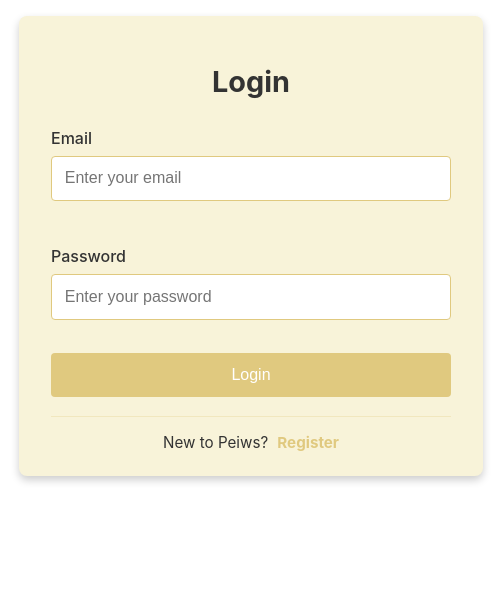
it: Login Component › shows error on login failure
Note: Fill in form fields
Type "test@example.com" into the field labelled "Email" at {"x": 251, "y": 178}, box [51,156,451,201]
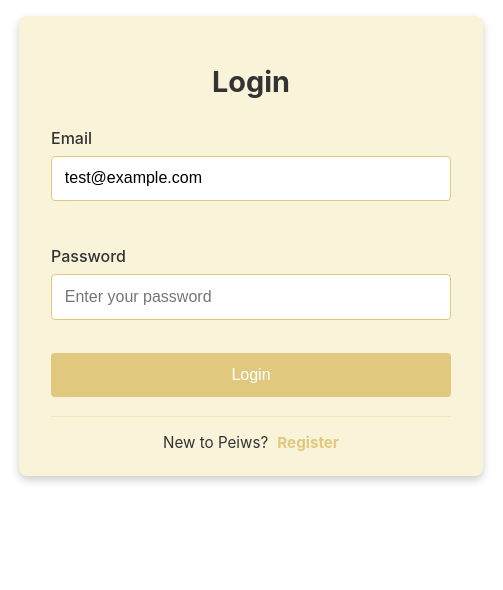
Type "wrong-password" into the password field labelled "Password" at {"x": 251, "y": 297}, box [51,274,451,320]
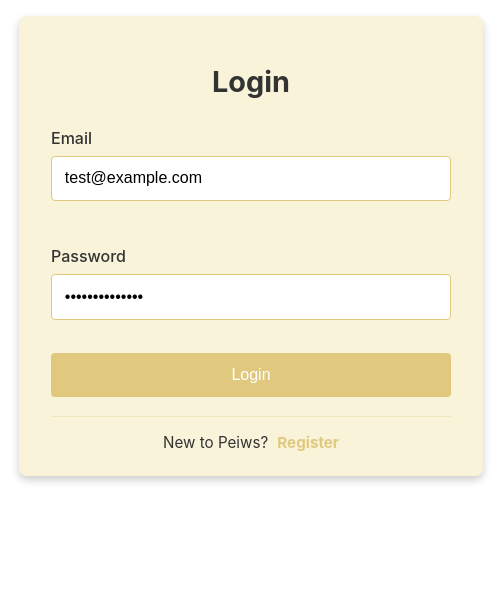
Note: Submit the form
Click the button "Login" at {"x": 251, "y": 375}, box [51,353,451,397]
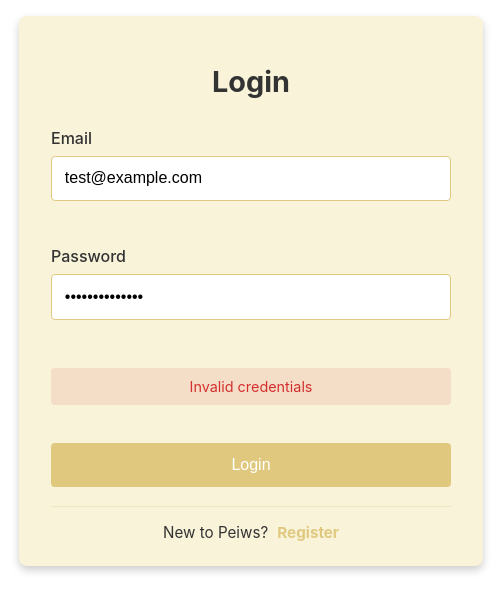
Expected: the text "Invalid credentials" is shown, [51,368,451,406]
